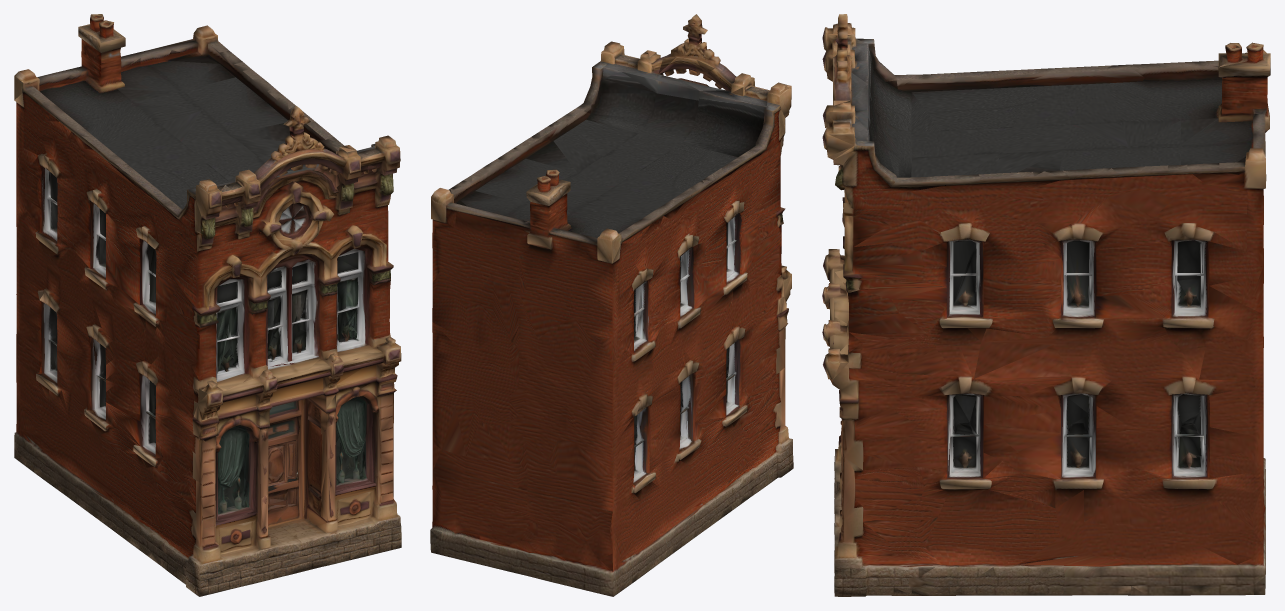
The model's file is PlymouthStore_Comparison_LOD3.fbx.
3 renders of one model, left to right at view 1: azimuth 30°, elevation 25°; view 2: azimuth 150°, elevation 25°; view 3: azimuth 270°, elevation 25°, orthographic. The views are drawn at different scales.
Visible parts, largest first — view 1: PlymouthStore_LOD3; view 2: PlymouthStore_LOD3; view 3: PlymouthStore_LOD3.
Boxes of the visible parts, x1,y1,x2,y2 form: PlymouthStore_LOD3: [14, 14, 401, 596]; PlymouthStore_LOD3: [430, 14, 793, 596]; PlymouthStore_LOD3: [822, 14, 1270, 596].
Size of the model in its own units: 549 by 1200 by 925.
